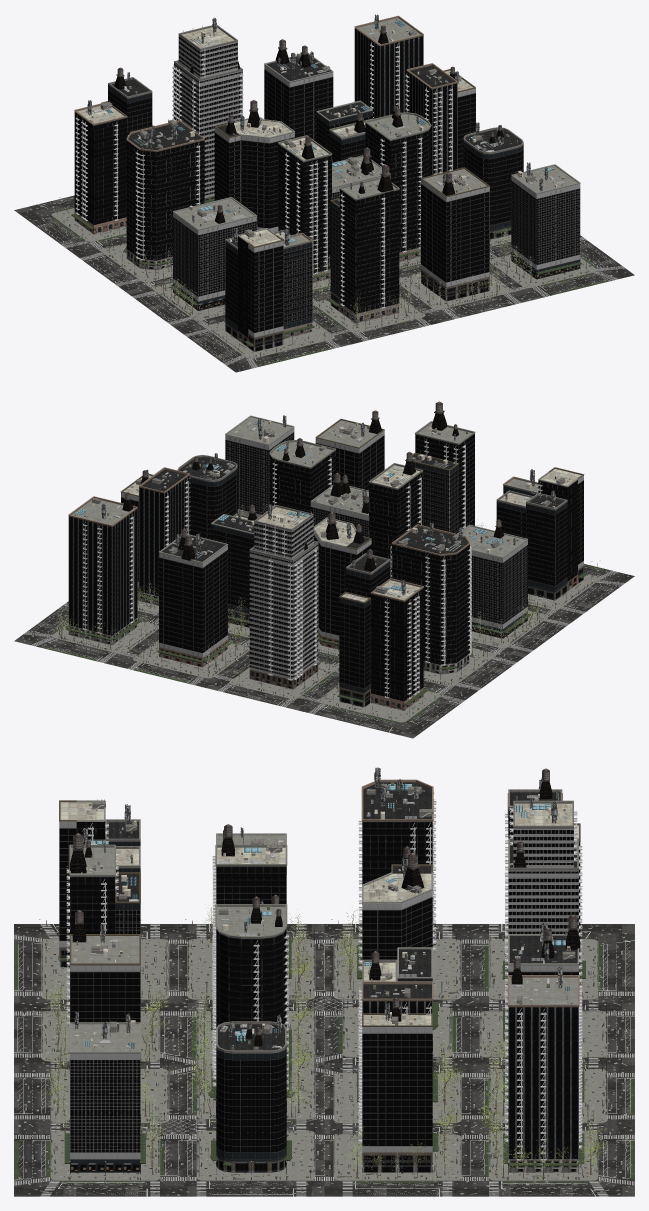
The model's file is City.fbx.
The picture shows the model from 3 angles, top to bottom: view 1: azimuth 30°, elevation 25°; view 2: azimuth 150°, elevation 25°; view 3: azimuth 270°, elevation 25°; orthographic projection. The views are drawn at different scales.
Visible parts, largest first — view 1: CityGen Buildings_1, Plane.018_0; view 2: CityGen Buildings_1, Plane.018_0; view 3: CityGen Buildings_1, Plane.018_0.
Part boxes in pixels (box(x1,y1,x2,y2)): CityGen Buildings_1: box(71, 14, 582, 351); Plane.018_0: box(14, 195, 634, 372); CityGen Buildings_1: box(65, 401, 587, 710); Plane.018_0: box(14, 504, 634, 738); CityGen Buildings_1: box(59, 767, 585, 1174); Plane.018_0: box(14, 907, 634, 1196).
Size of the model in its own units: 26495 by 10925 by 25510.
